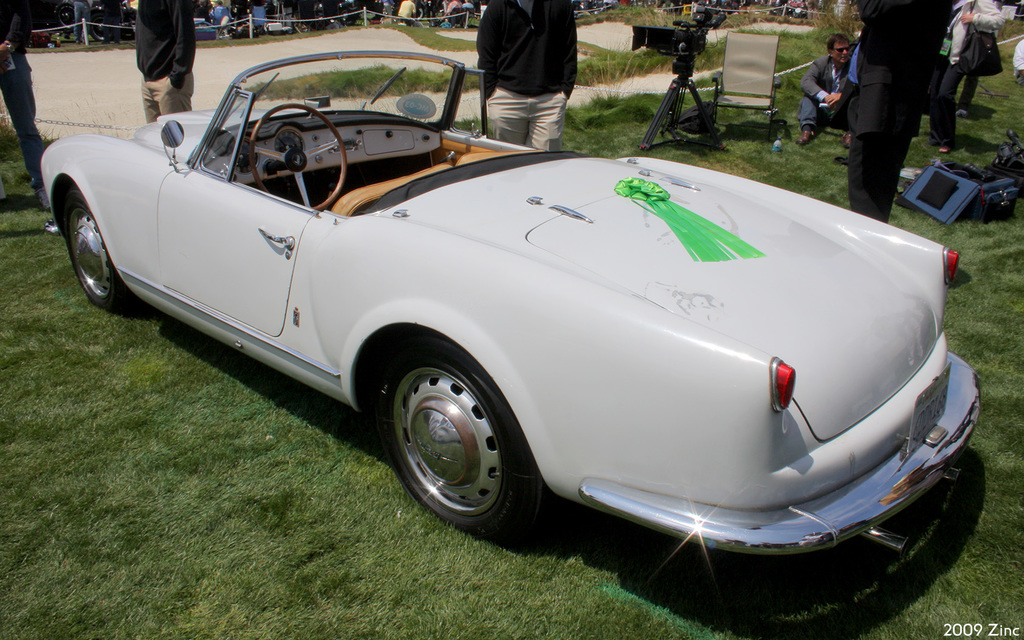Car: (40, 48, 984, 555)
